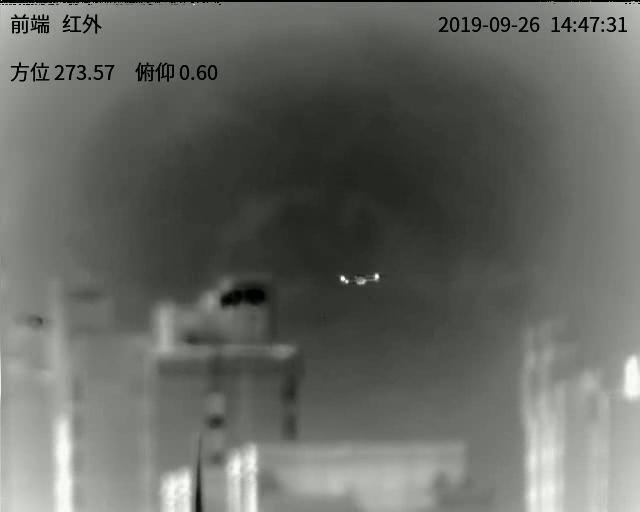DRONE: (333, 271, 377, 287)
